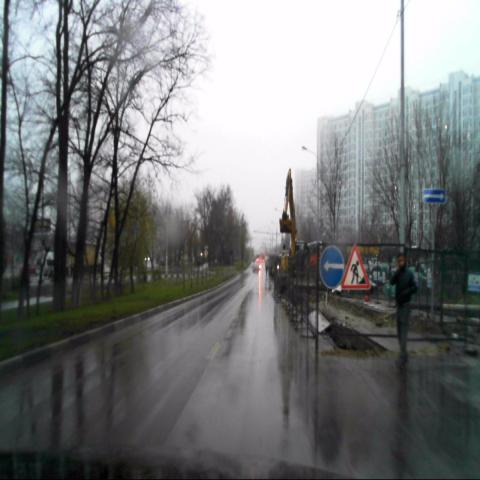4_1_2_2: (320, 246, 343, 289)
